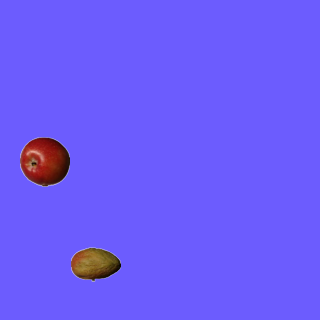Apple Braeburn: (19, 136, 69, 186)
Papaya: (70, 239, 120, 289)
